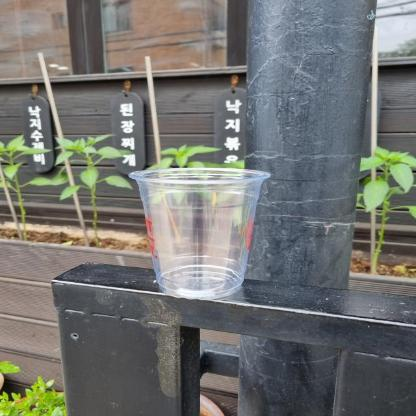Plastic Cup: (124, 162, 278, 304)
